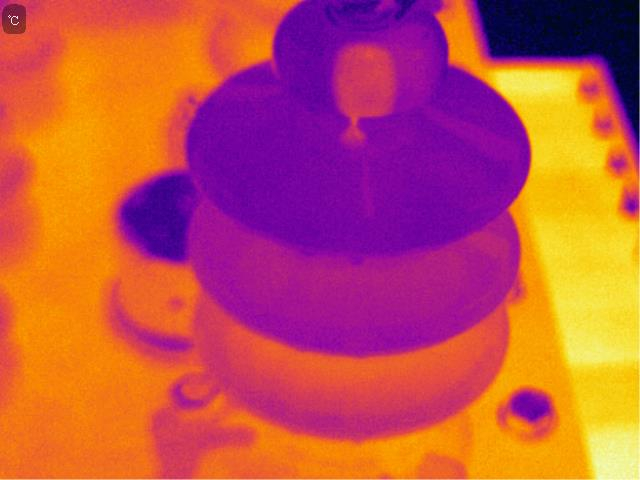Oil: (324, 40, 404, 149), (420, 90, 523, 168), (219, 44, 287, 108), (349, 162, 389, 228), (347, 254, 370, 265)
